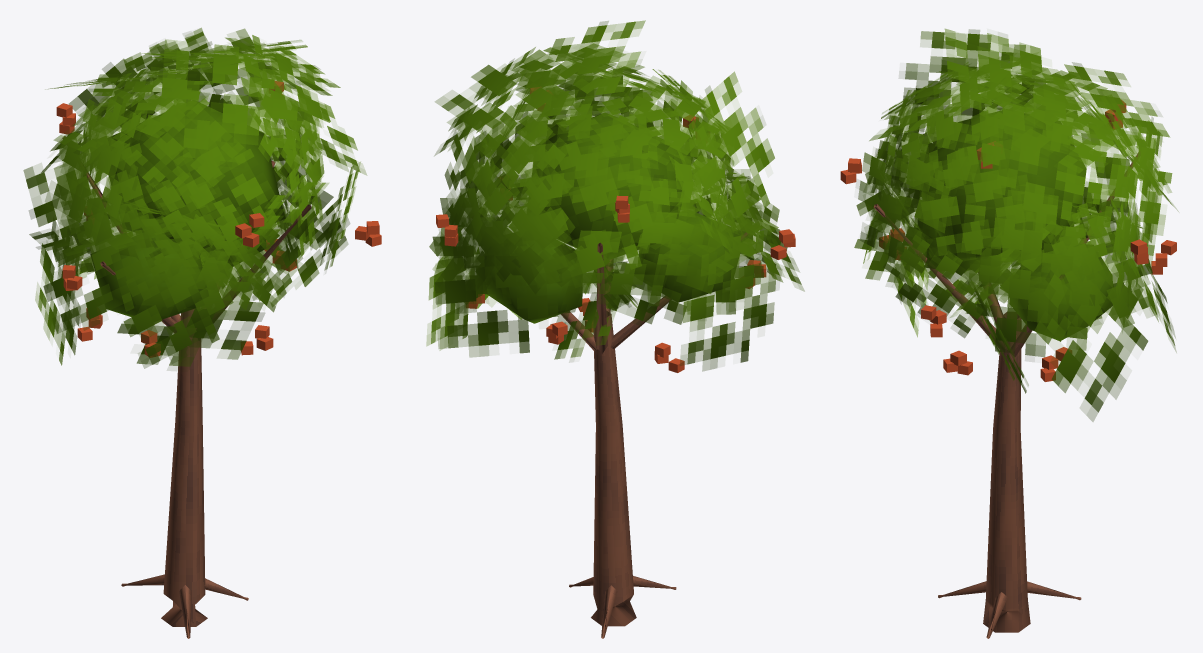
The model's file is rowan.glb.
3 views of the same model, side by side, from view 1: azimuth 30°, elevation 25°; view 2: azimuth 150°, elevation 25°; view 3: azimuth 270°, elevation 25° (orthographic). The views are drawn at different scales.
Parts seen in each view (by area): view 1: rowan_Leaf_Mid, rowan_Core_Mid, rowan_Bark_Gray, rowan_Berry_Rowan; view 2: rowan_Leaf_Mid, rowan_Core_Mid, rowan_Bark_Gray, rowan_Berry_Rowan; view 3: rowan_Leaf_Mid, rowan_Core_Mid, rowan_Bark_Gray, rowan_Berry_Rowan.
Boxes of the visible parts, x1,y1,x2,y2 form: rowan_Leaf_Mid: (23,28,366,368); rowan_Core_Mid: (90,100,285,319); rowan_Bark_Gray: (62,136,311,638); rowan_Berry_Rowan: (56,81,381,357); rowan_Leaf_Mid: (426,20,804,371); rowan_Core_Mid: (485,112,744,323); rowan_Bark_Gray: (560,232,748,638); rowan_Berry_Rowan: (436,87,795,372); rowan_Leaf_Mid: (854,29,1178,421); rowan_Core_Mid: (917,110,1112,340); rowan_Bark_Gray: (873,153,1138,638); rowan_Berry_Rowan: (840,100,1176,381).
Size of the model in its own units: 3.81 by 6.25 by 3.28.
Materials: 4 (2 with a texture image).
